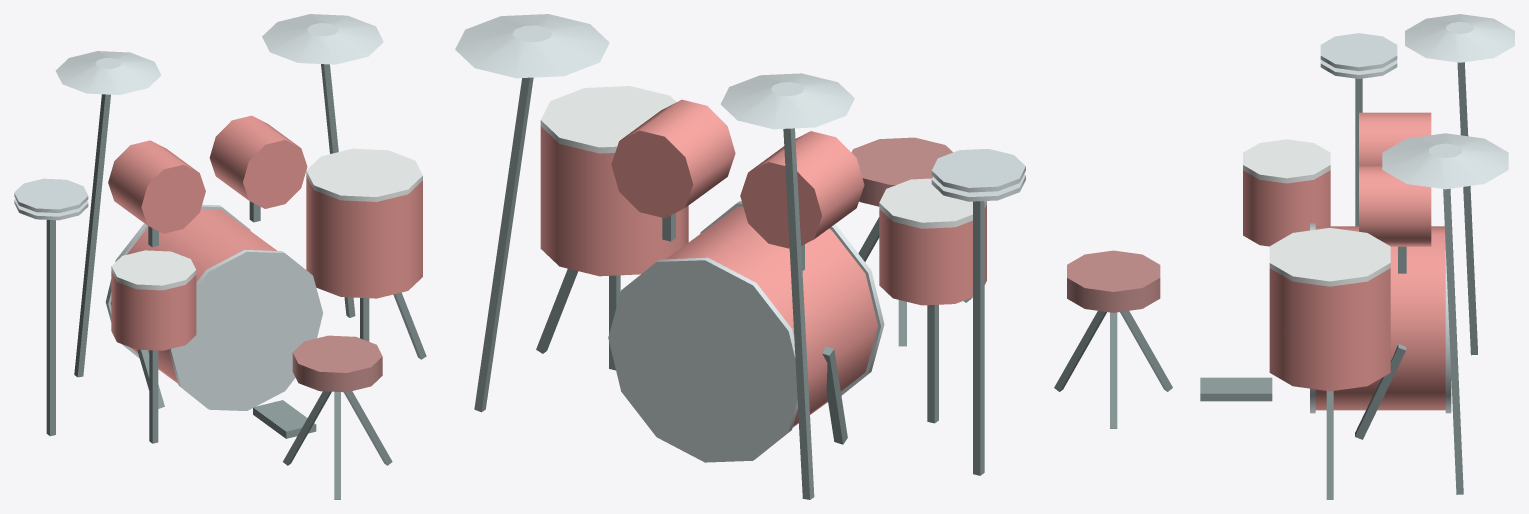
Rendered from drumKit.glb.
3 views of the same model, side by side, from view 1: azimuth 30°, elevation 25°; view 2: azimuth 150°, elevation 25°; view 3: azimuth 270°, elevation 25° (orthographic). The views are drawn at different scales.
Parts seen in each view (by area): view 1: drumKit; view 2: drumKit; view 3: drumKit.
Part boxes in pixels (<box>): drumKit: <box>14,14,426,499</box>; drumKit: <box>455,14,1025,499</box>; drumKit: <box>1054,14,1514,499</box>.
Size of the model in its own units: 0.86 by 0.65 by 0.7983.
